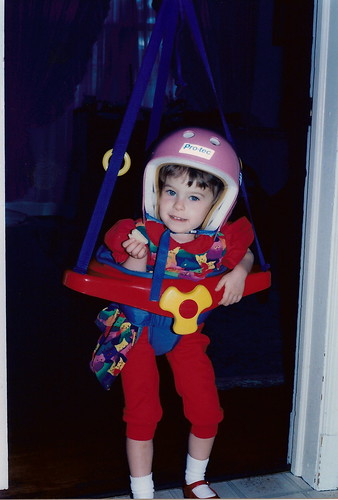helmet: (151, 117, 235, 218)
